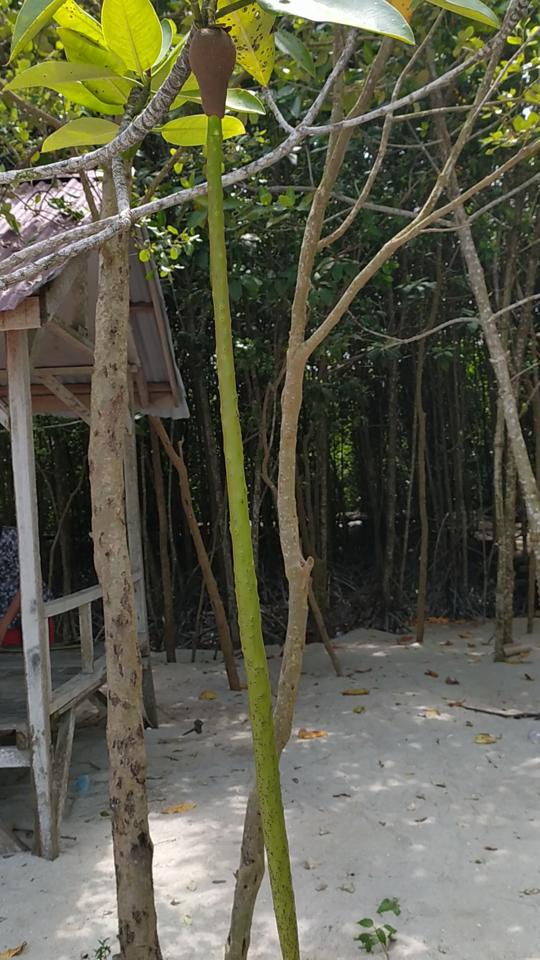mentah: (175, 21, 317, 958)
